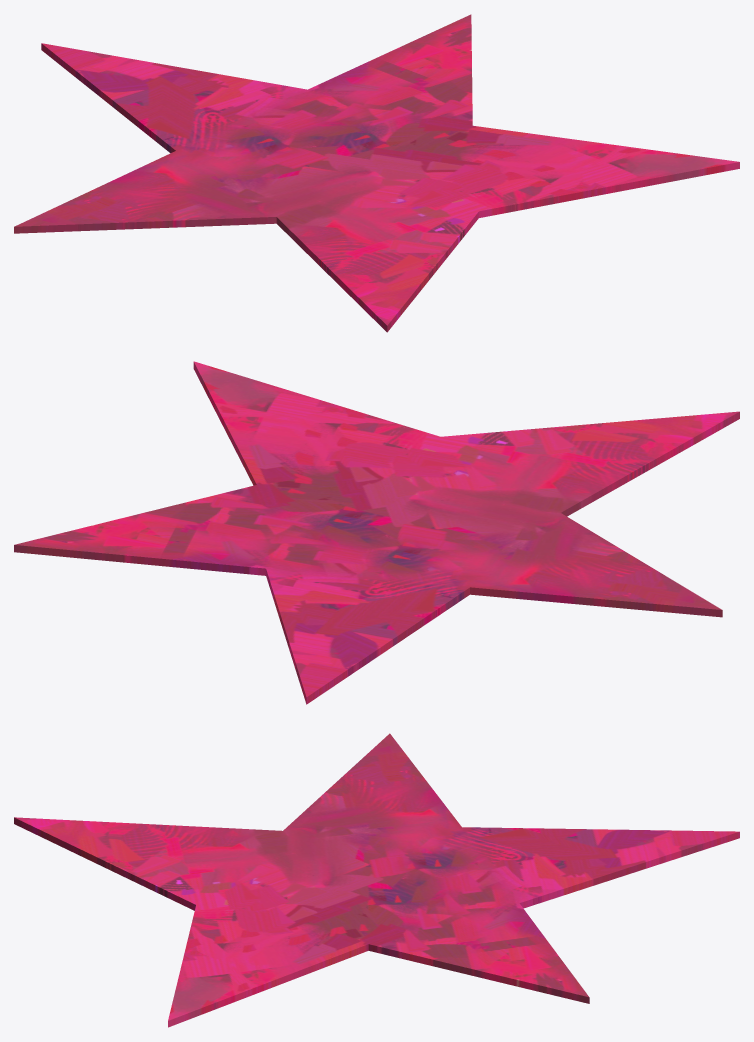
The model's file is star carpet.glb.
3 views of the same model, one above another, from view 1: azimuth 30°, elevation 25°; view 2: azimuth 150°, elevation 25°; view 3: azimuth 270°, elevation 25° (orthographic). The views are drawn at different scales.
Visible parts, largest first — view 1: Plane.106; view 2: Plane.106; view 3: Plane.106.
Part boxes in pixels (x1,y1,x2,y2): Plane.106: (14,14,739,332); Plane.106: (14,361,739,704); Plane.106: (14,733,739,1027).
Bounding box in the file's own units: 2.4 × 0.0259 × 2.56.
1 material, 1 textured.
